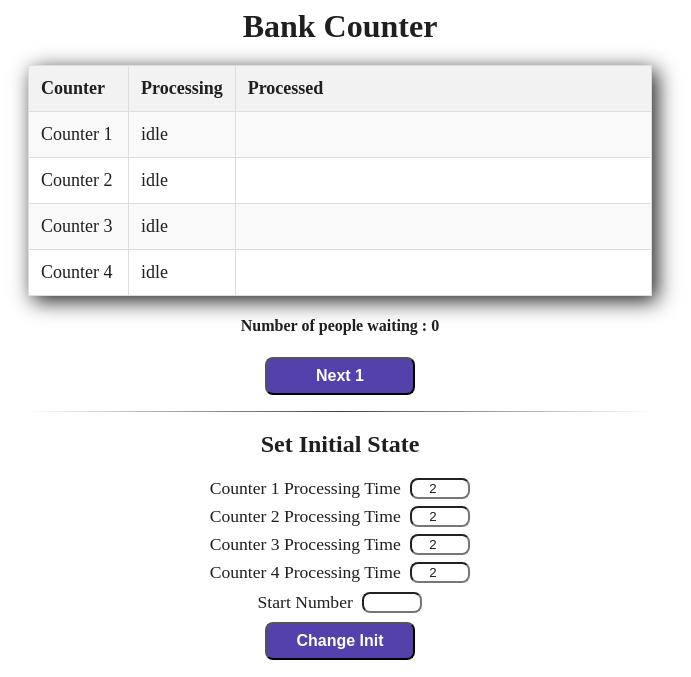
Test: Homepage › clicks the "Next" button then counter one starts processing client 1
The image size is (691, 677).
Click the button "Next 1": (340, 376) [265,356,415,394]
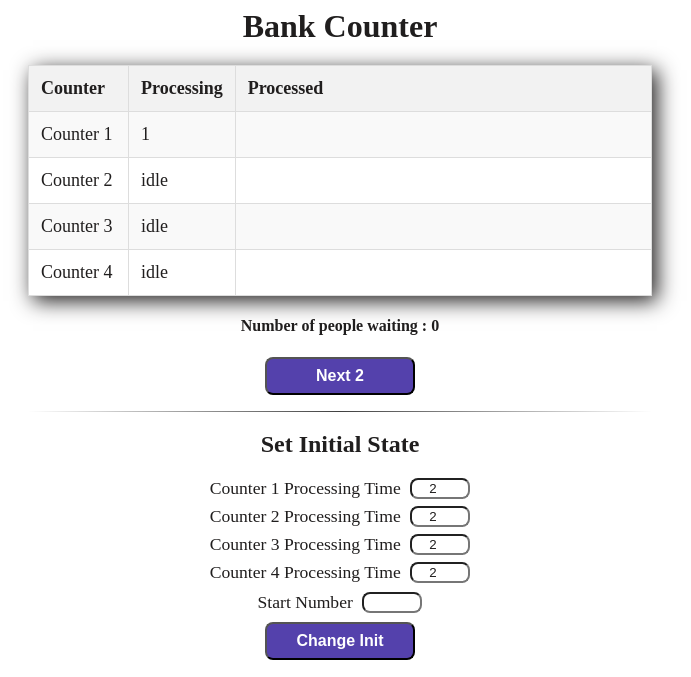
Now the cell "1" is shown, box [128,112,235,158]
